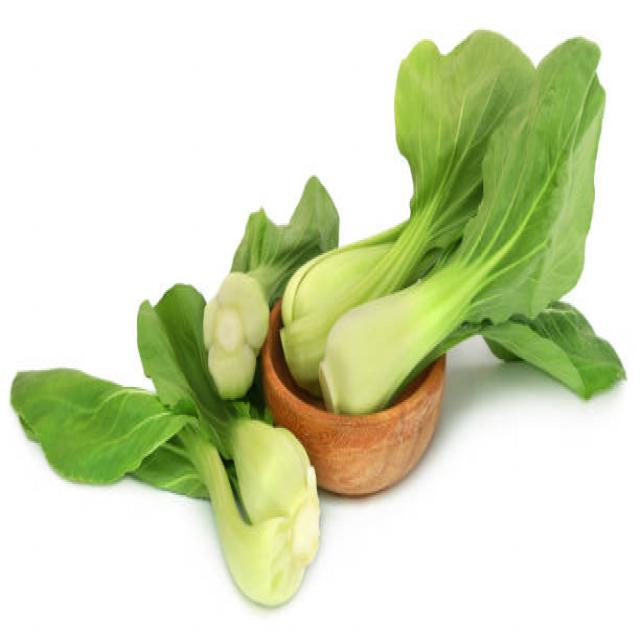bok choy: (140, 381, 328, 640), (333, 270, 619, 433), (327, 38, 503, 279), (208, 192, 263, 378)
